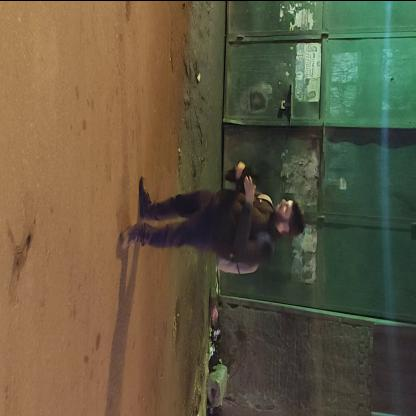long weapon: (219, 155, 263, 188)
